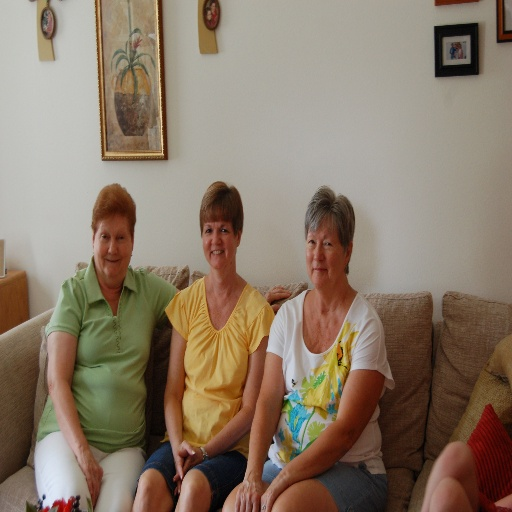hand: (172, 443, 202, 498), (169, 439, 195, 497), (78, 451, 104, 508), (237, 472, 264, 511), (257, 488, 280, 511)
